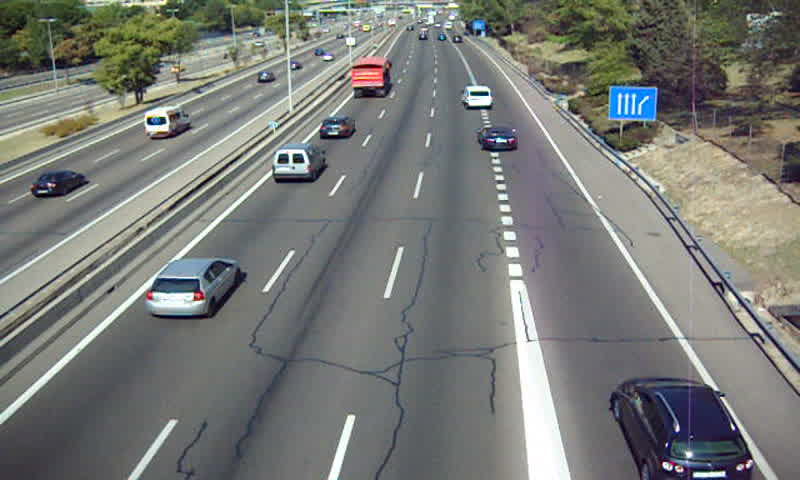car: (611, 377, 754, 480), (144, 260, 239, 313), (478, 125, 518, 152), (320, 116, 355, 138)
truck: (350, 58, 392, 98)
van: (272, 144, 323, 182), (461, 85, 492, 109)
